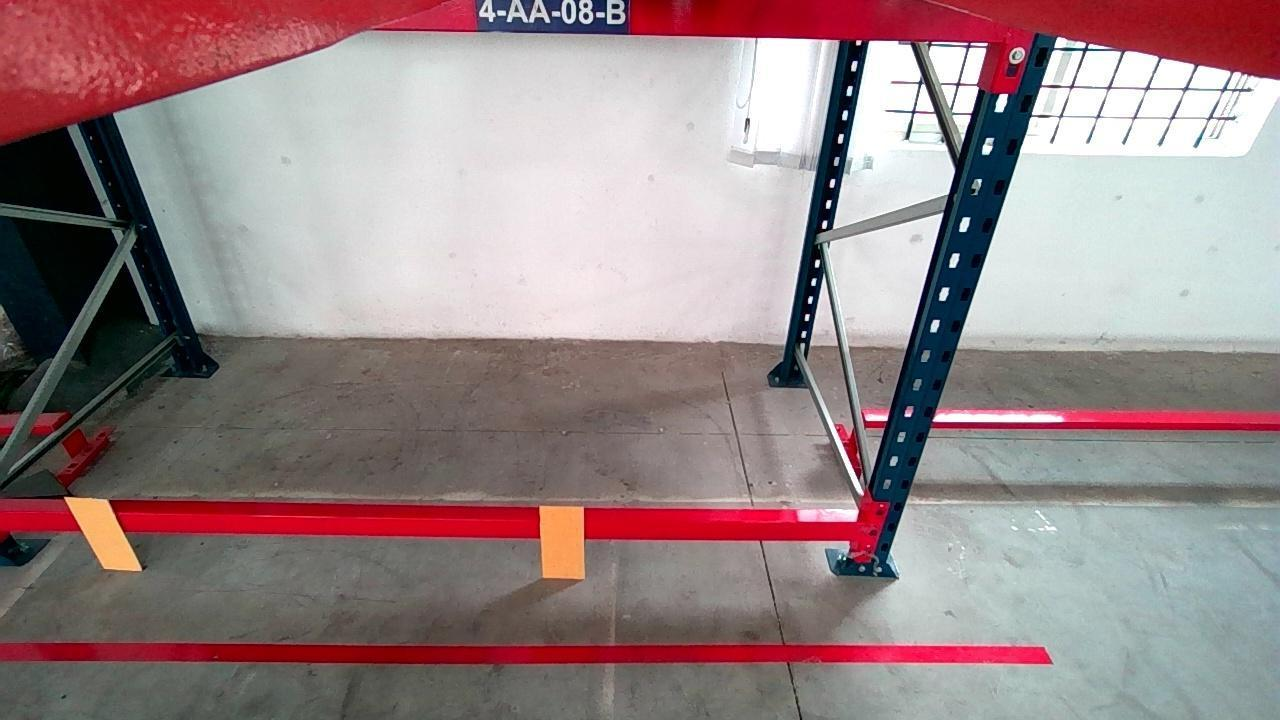h_rack: (0, 509, 855, 539)
orange_strip: (63, 495, 139, 567), (537, 502, 583, 578)
red_line: (1, 639, 1050, 663)
